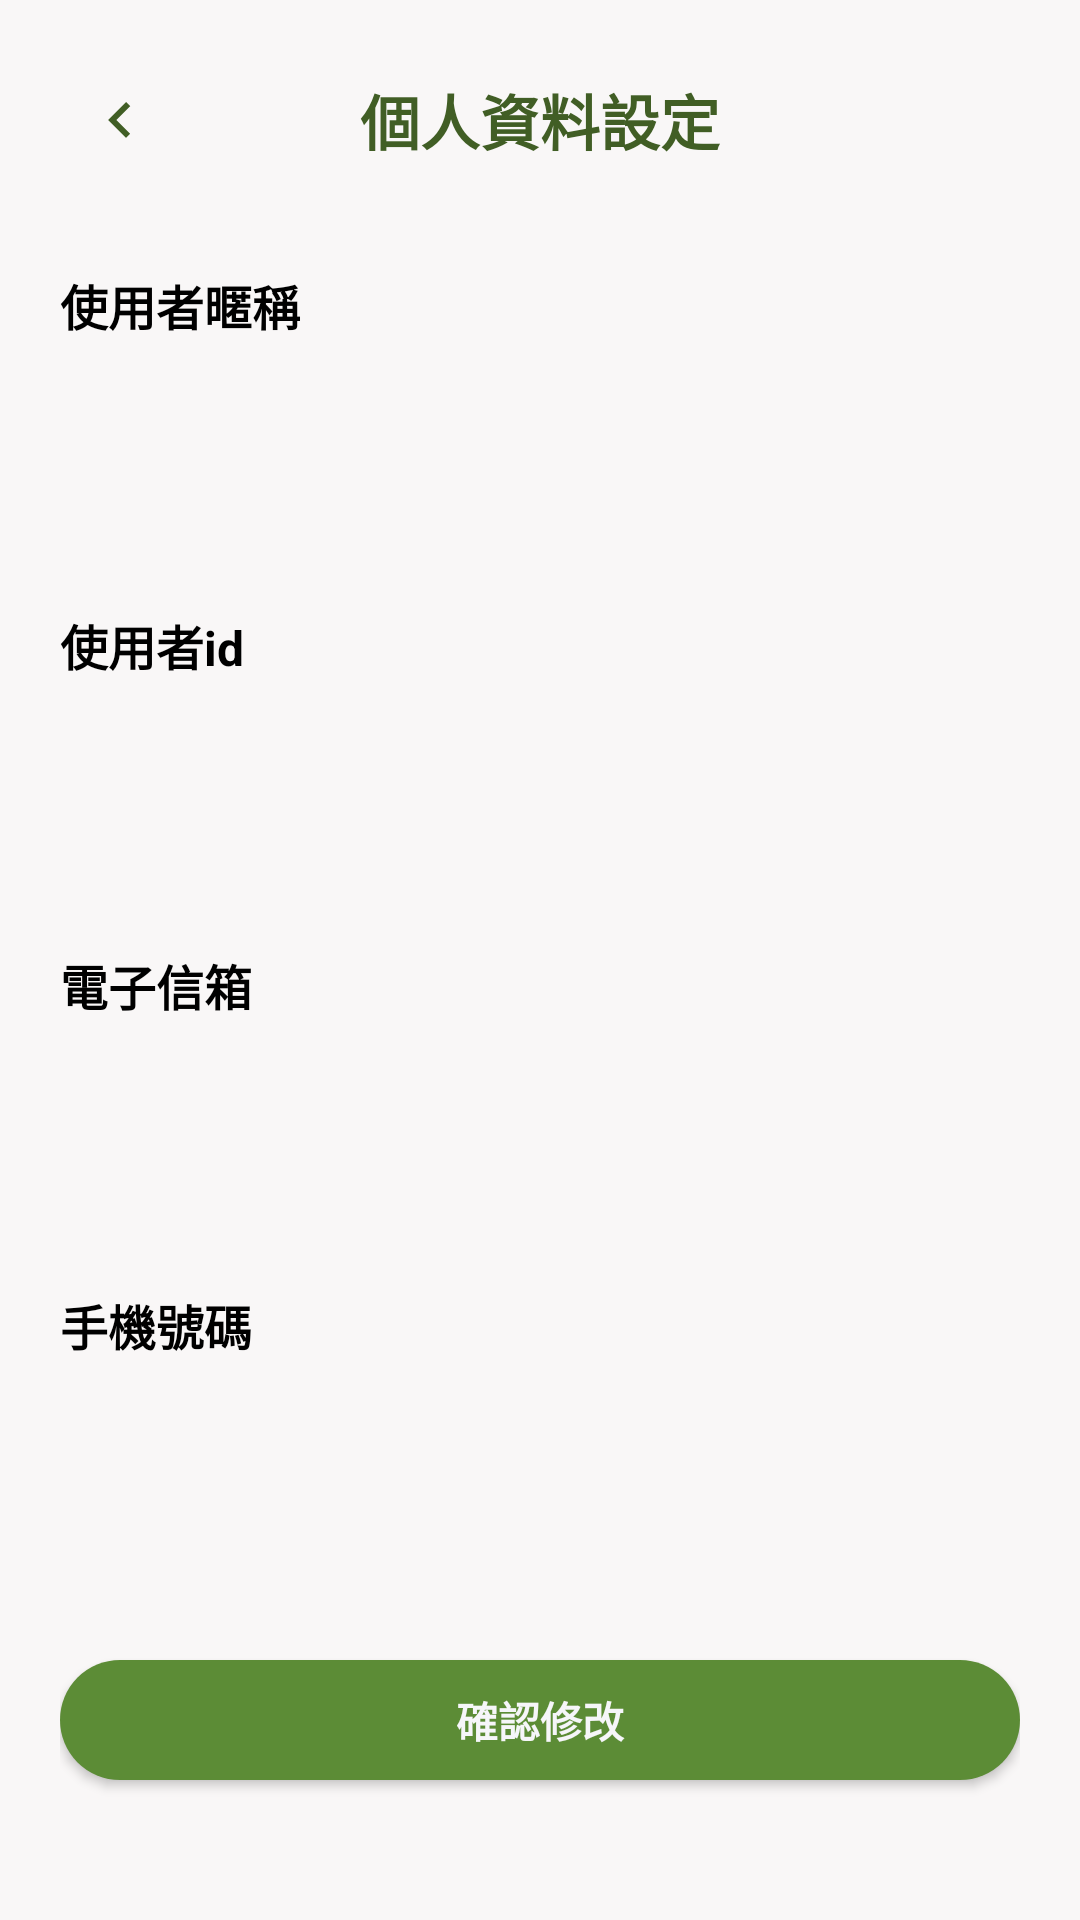

Point at icon controls on the screen. Image size 1080x1920, points as (x,y).
keyboard arrow left: (119,120)
